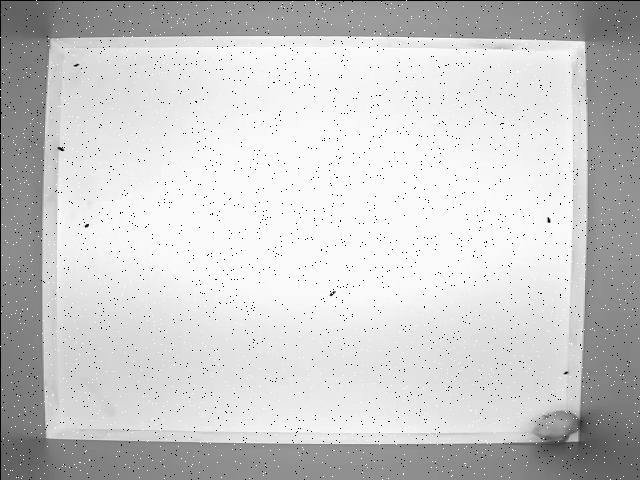Tikus: (517, 405, 584, 449)
